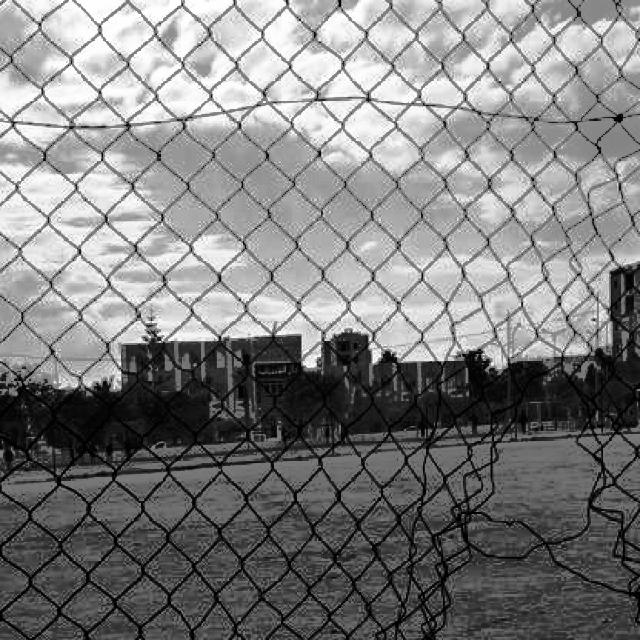anomaly-fence: (375, 260, 640, 640)
fences: (7, 9, 314, 636)
